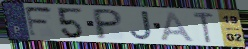5: (54, 6, 86, 39)
A: (160, 10, 197, 43)
F: (23, 6, 55, 39)
J: (128, 9, 155, 41)
P: (93, 7, 124, 40)
T: (190, 11, 217, 45)
